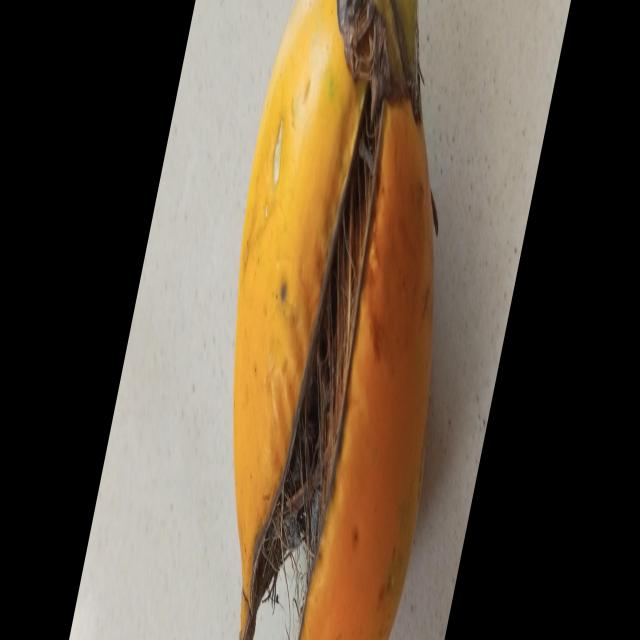damaged: (231, 0, 435, 640)
